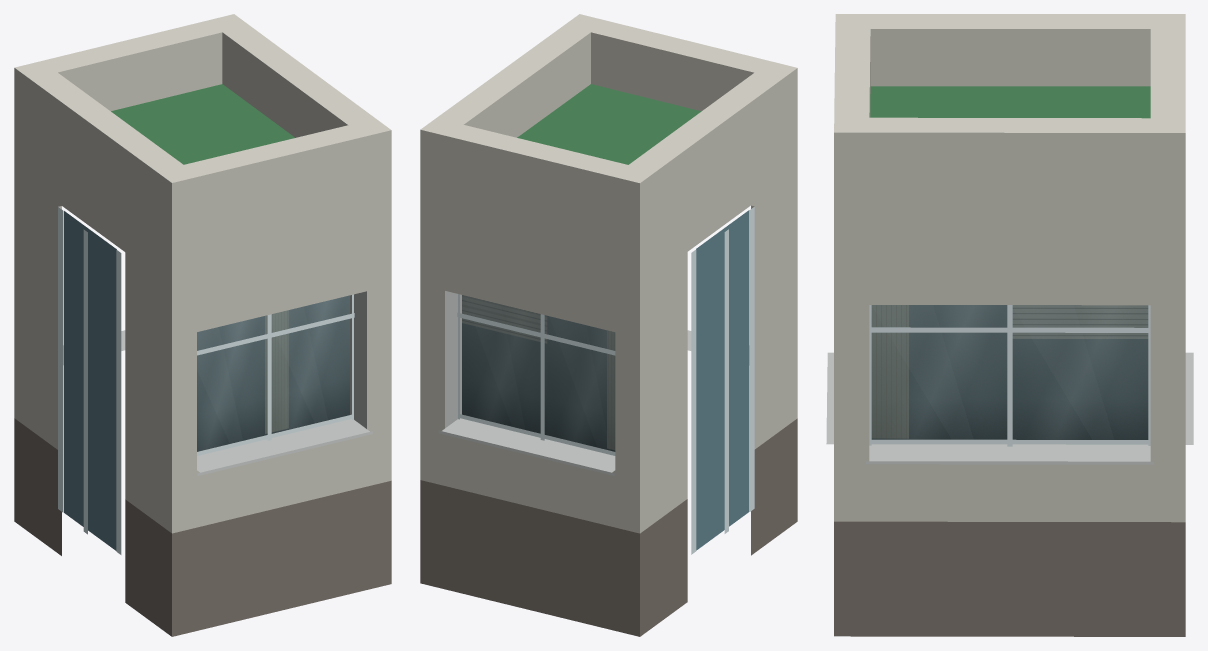
3 renders of one model, left to right at view 1: azimuth 30°, elevation 25°; view 2: azimuth 150°, elevation 25°; view 3: azimuth 270°, elevation 25°, orthographic. The views are drawn at different scales.
Visible parts, largest first — view 1: guard__trim-concrete, guard__base-stone, guard__glass, guard__door-guard, guard__roof, guard__frame, guard__window-reveal, guard__window-sill-metal; view 2: guard__trim-concrete, guard__base-stone, guard__glass, guard__door-guard, guard__roof, guard__frame, guard__window-reveal, guard__window-sill-metal; view 3: guard__trim-concrete, guard__base-stone, guard__glass, guard__roof, guard__window-reveal, guard__frame, guard__window-sill-metal.
Boxes of the visible parts, x1=… form: guard__trim-concrete: x1=14, y1=14, x2=391, y2=533; guard__base-stone: x1=14, y1=418, x2=391, y2=636; guard__glass: x1=197, y1=295, x2=349, y2=451; guard__door-guard: x1=63, y1=211, x2=116, y2=550; guard__roof: x1=111, y1=84, x2=294, y2=164; guard__frame: x1=58, y1=207, x2=354, y2=554; guard__window-reveal: x1=63, y1=291, x2=369, y2=472; guard__window-sill-metal: x1=197, y1=431, x2=372, y2=475; guard__trim-concrete: x1=420, y1=14, x2=797, y2=533; guard__base-stone: x1=420, y1=418, x2=797, y2=636; guard__glass: x1=462, y1=295, x2=615, y2=451; guard__door-guard: x1=696, y1=210, x2=749, y2=550; guard__roof: x1=517, y1=84, x2=701, y2=164; guard__frame: x1=457, y1=207, x2=754, y2=554; guard__window-reveal: x1=442, y1=291, x2=749, y2=472; guard__window-sill-metal: x1=438, y1=430, x2=614, y2=475; guard__trim-concrete: x1=834, y1=14, x2=1185, y2=522; guard__base-stone: x1=834, y1=521, x2=1185, y2=636; guard__glass: x1=871, y1=305, x2=1148, y2=439; guard__roof: x1=870, y1=86, x2=1150, y2=118; guard__window-reveal: x1=826, y1=352, x2=1193, y2=461; guard__frame: x1=869, y1=305, x2=1150, y2=446; guard__window-sill-metal: x1=865, y1=461, x2=1153, y2=464.
Bounding box in the file's own units: 2.13 × 3.95 × 2.61.
8 materials, 1 textured.
